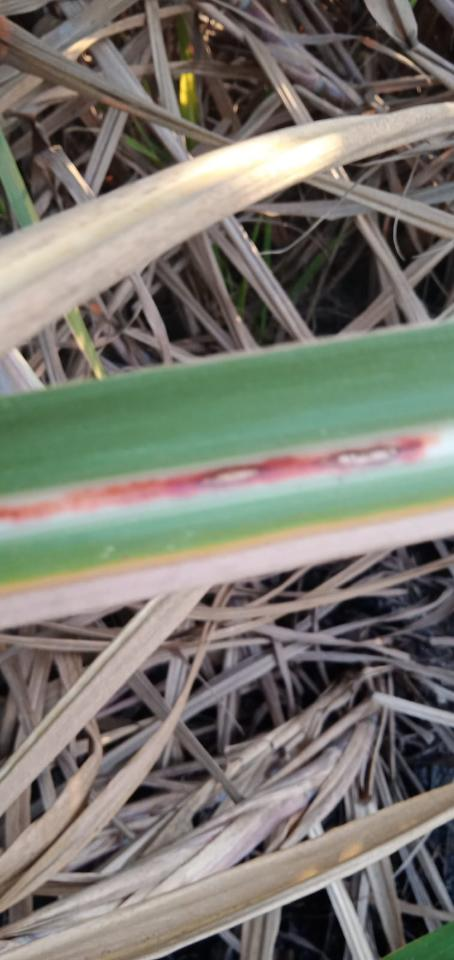RedRot: (0, 438, 429, 522)
Yellow: (0, 496, 454, 597)
